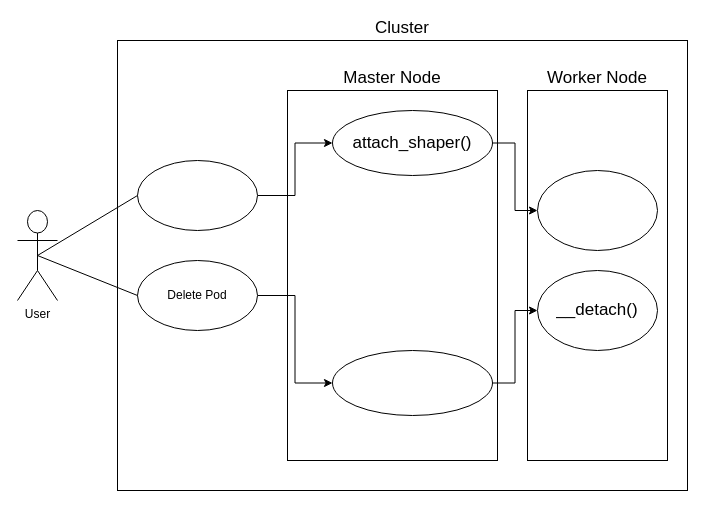
Image size: 705x508. Some labels were removed from this diagram. Here are the shapes that lost their labels. From the top down, the centre of each, then its label:
At point 197,195: "Create Pod".
At point 597,210: "__attach()".
At point 412,383: "detach_shaper()".
